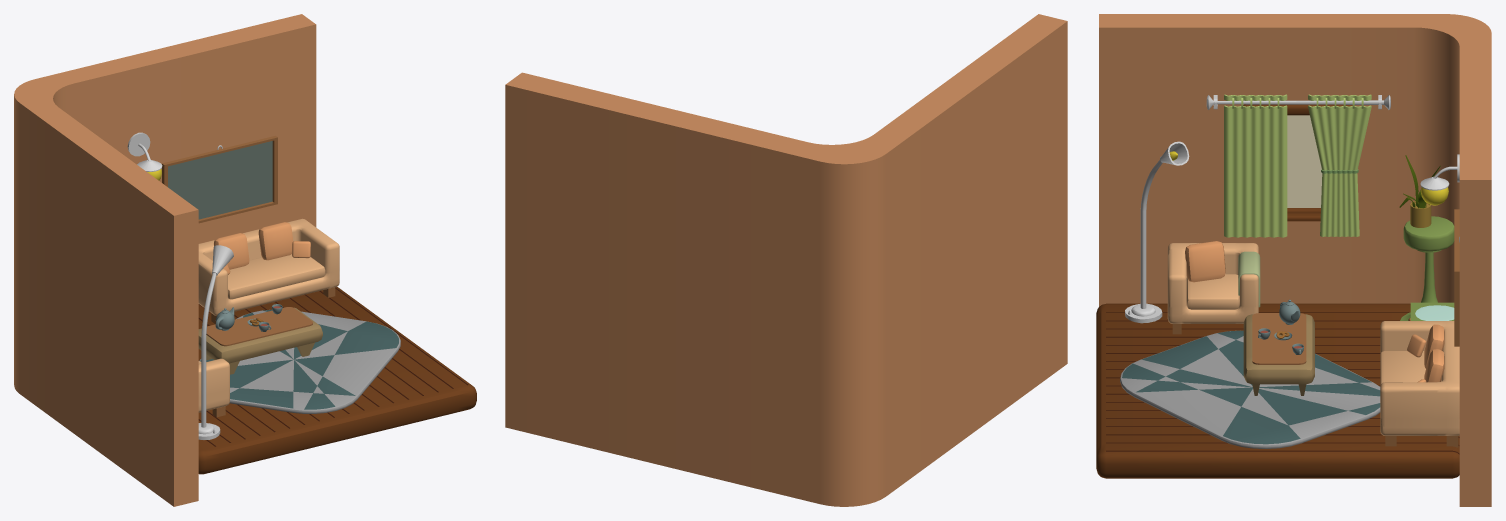
Rendered from room.fbx.
The picture shows the model from 3 angles, left to right: view 1: azimuth 30°, elevation 25°; view 2: azimuth 150°, elevation 25°; view 3: azimuth 270°, elevation 25°; orthographic projection. The views are drawn at different scales.
Visible parts, largest first — view 1: Cube.002, Cube, Cube.009, Cube.023, Cube.004, Cube.005, Cube.015, Cube.016, Cube.007, Plane.006, Cube.010; view 2: Cube.002; view 3: Cube.002, Cube, Cube.009, Cube.021, Cube.004, Cube.022, Cube.010, Cube.015, Cube.016, Plane.006, Cylinder, Cube.011 (+9 smaller).
Part boxes in pixels (<box>): Cube.002: <box>14,14,316,506</box>; Cube: <box>198,286,476,474</box>; Cube.009: <box>199,309,400,413</box>; Cube.023: <box>162,135,277,223</box>; Cube.004: <box>198,218,339,315</box>; Cube.005: <box>228,254,325,299</box>; Cube.015: <box>198,307,322,374</box>; Cube.016: <box>201,307,312,346</box>; Cube.007: <box>214,222,293,269</box>; Plane.006: <box>198,245,233,439</box>; Cube.010: <box>198,358,229,412</box>; Cube.002: <box>505,14,1067,506</box>; Cube.002: <box>1099,14,1491,506</box>; Cube: <box>1096,303,1459,478</box>; Cube.009: <box>1120,330,1380,448</box>; Cube.021: <box>1224,94,1287,237</box>; Cube.004: <box>1380,321,1459,435</box>; Cube.022: <box>1308,94,1371,236</box>; Cube.010: <box>1167,243,1258,323</box>; Cube.015: <box>1243,314,1314,395</box>; Cube.016: <box>1252,313,1306,364</box>; Plane.006: <box>1125,141,1189,323</box>; Cylinder: <box>1400,216,1454,320</box>; Cube.011: <box>1186,274,1239,309</box>.
Bounding box in the file's own units: 951 × 868 × 951.
